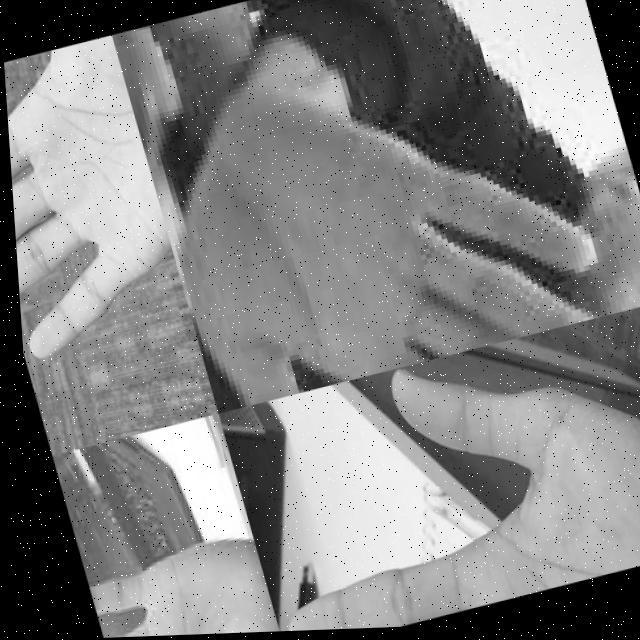no-gloves: (124, 1, 636, 416), (206, 304, 640, 634), (2, 33, 188, 360), (74, 528, 275, 639)
